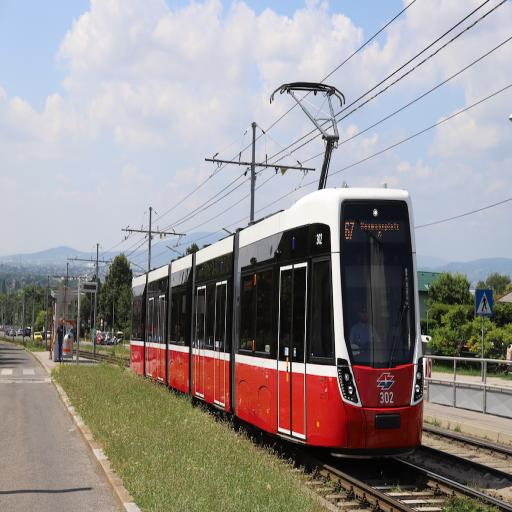Flexity: (129, 186, 426, 449)
